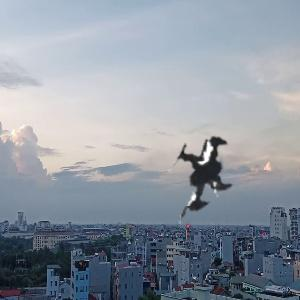drone: (64, 60, 291, 287)
